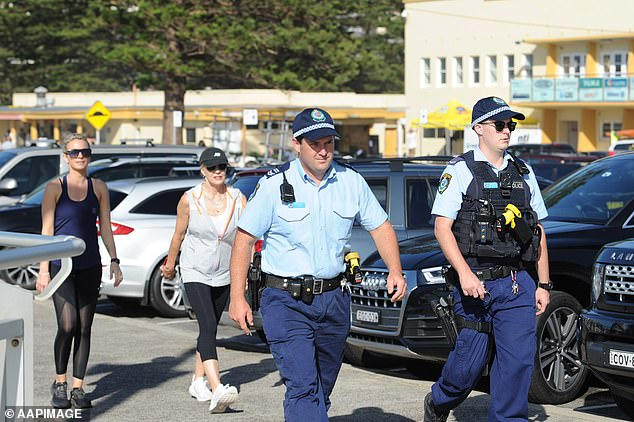Person: (239, 107, 407, 422), (425, 97, 553, 421), (163, 148, 239, 413), (39, 133, 115, 236)
